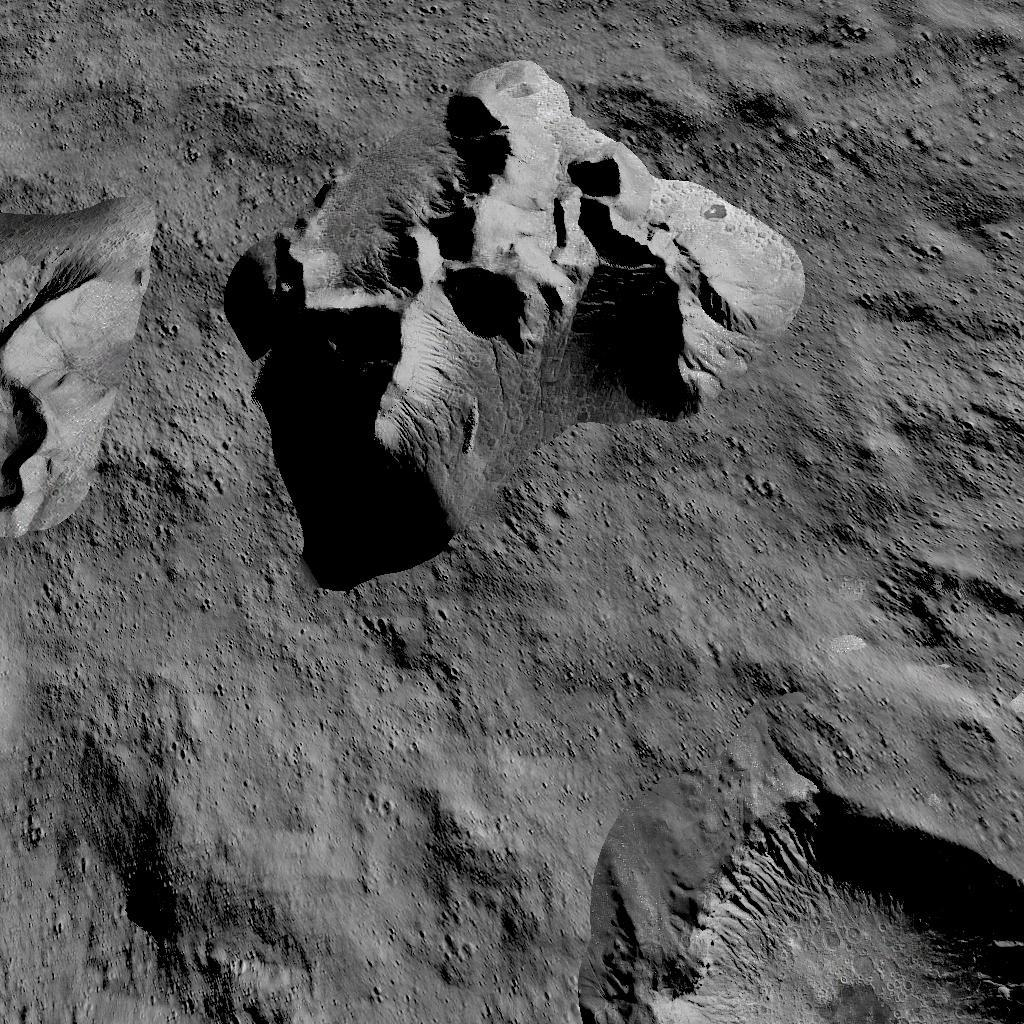Boulders: (204, 32, 810, 584), (0, 164, 153, 534)
Crater: (573, 746, 1024, 1024), (873, 540, 1024, 686), (106, 838, 210, 948)
Plan surface: (260, 598, 552, 1024), (829, 0, 1024, 527), (13, 605, 235, 815), (574, 602, 858, 726), (8, 6, 194, 149)
